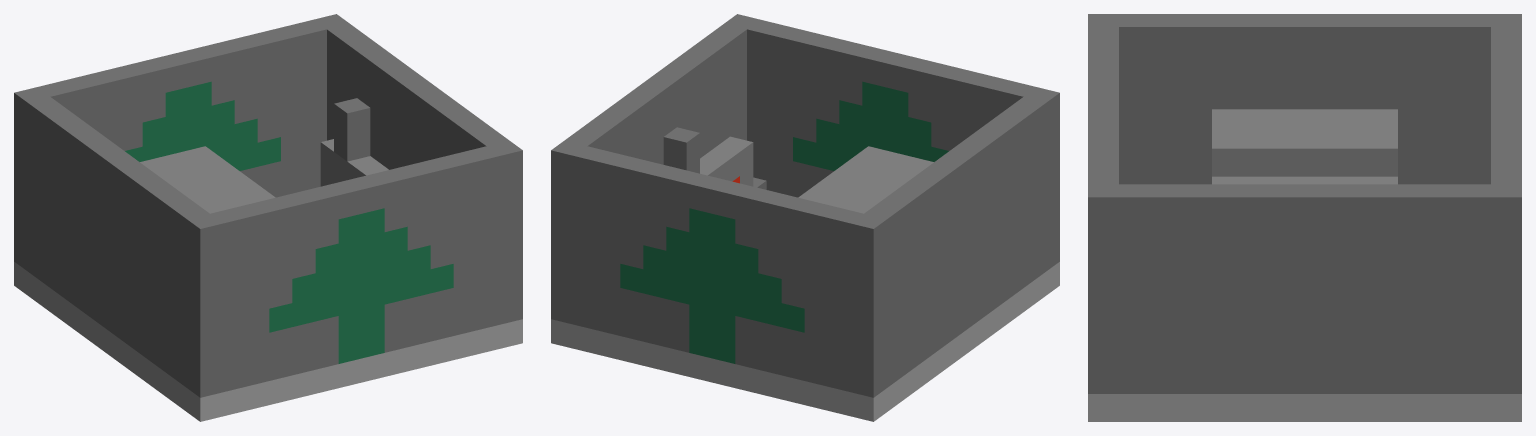
File: Towar-3.obj
3 views of the same model, side by side, from view 1: azimuth 30°, elevation 25°; view 2: azimuth 150°, elevation 25°; view 3: azimuth 270°, elevation 25° (orthographic). The views are drawn at different scales.
Parts seen in each view (by area): view 1: Towar-3; view 2: Towar-3; view 3: Towar-3.
Boxes of the visible parts, x1,y1,x2,y2 form: Towar-3: [14, 14, 522, 421]; Towar-3: [551, 14, 1059, 421]; Towar-3: [1088, 14, 1521, 421].
Bounding box in the file's own units: 14 × 8 × 14.
1 material, 1 textured.
